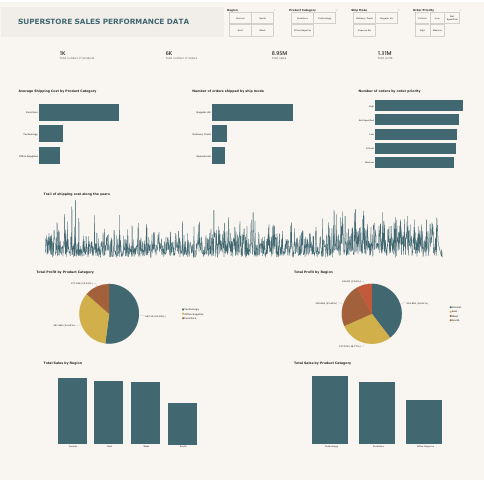

The page's visual inventory and layout, read from the dashboard file:
{"tool":"powerbi","page":{"name":"Page 1","canvas":[3000,3000],"ordinal":0},"visuals":[{"type":"barChart","title":"Number of orders shipped by ship mode","fields":{"Category":["Orders.Ship Mode"],"Y":["CountNonNull(Orders.Ship Date)"]},"box":[1128.6,507.1,665,502.8],"z":0,"group":"g3"},{"type":"barChart","title":"Average Shipping Cost by Product Category","fields":{"Y":["Avg(Orders.Shipping Cost)"],"Category":["Orders.Product Category"]},"box":[110.7,507.1,665,502.8],"z":1000,"group":"g3"},{"type":"columnChart","title":"Total Sales by Region","fields":{"Category":["Orders.Region"],"Y":["Sum(Orders.Sales)"]},"box":[257.1,2100,1000,517.9],"z":2000,"group":"g5"},{"type":"columnChart","title":"Total Sales by Product Category","fields":{"Category":["Orders.Product Category"],"Y":["Sum(Orders.Sales)"]},"box":[1725,2100,1000,517.9],"z":3000,"group":"g5"},{"type":"pieChart","title":"Total Profit by Product Category","fields":{"Y":["Sum(Orders.Profit)"],"Category":["Orders.Product Category"]},"box":[214.3,1567.9,1000,489.3],"z":4000,"group":"g4"},{"type":"pieChart","title":"Total Profit by Region","fields":{"Y":["Sum(Orders.Profit)"],"Category":["Orders.Region"]},"box":[1725,1567.9,1000,489.3],"z":5000,"group":"g4"},{"type":"cardVisual","fields":{"Data":["Orders.Total sales"]},"box":[1571.2,203.6,421.8,200],"z":6000,"group":"g1"},{"type":"cardVisual","fields":{"Data":["Orders.Total number of ordes"]},"box":[949.9,203.6,421.8,200],"z":7000,"group":"g1"},{"type":"shape","box":[17.9,28.6,1307.1,175],"z":8000},{"type":"textbox","box":[28.6,78.6,1185.7,100],"z":9000},{"type":"cardVisual","fields":{"Data":["Orders.Total profit"]},"box":[2192.5,203.6,421.8,200],"z":9001,"group":"g1"},{"type":"slicer","fields":{"Values":["Orders.Region"]},"box":[1325,28.6,309.3,175],"z":9002,"group":"g2"},{"type":"slicer","fields":{"Values":["Orders.Product Category"]},"box":[1688.6,28.6,309.3,175],"z":9003,"group":"g2"},{"type":"slicer","fields":{"Values":["Orders.Order Priority"]},"box":[2415.7,28.6,309.3,175],"z":9004,"group":"g2"},{"type":"barChart","title":"Number of orders by order priority","fields":{"Category":["Orders.Order Priority"],"Y":["Sum(Orders.Quantity ordered new)"]},"box":[2103.6,507.1,665,502.8],"z":9005,"group":"g3"},{"type":"slicer","fields":{"Values":["Orders.Ship Mode"]},"box":[2052.2,28.6,309.3,175],"z":9006,"group":"g2"},{"type":"lineChart","title":"Trail of shipping cost along the years","fields":{"Y":["Sum(Orders.Shipping Cost)"],"Category":["Orders.Ship Date"]},"box":[257.1,1107.1,2357.1,392.9],"z":9007},{"type":"cardVisual","fields":{"Data":["Orders.Total number of products"]},"box":[328.6,203.6,421.8,200],"z":9008,"group":"g1"},{"type":"group","id":"g1","title":"Group 2","box":[328.6,203.6,2285.7,200],"z":9010},{"type":"group","id":"g2","title":"Group 1","box":[1325,28.6,1400,175],"z":9011},{"type":"group","id":"g3","title":"Group 3","box":[110.7,507.1,2657.1,503.6],"z":9012},{"type":"group","id":"g4","title":"Group 4","box":[214.3,1567.9,2510.7,489.3],"z":9013},{"type":"group","id":"g5","title":"Group 5","box":[257.1,2100,2467.9,517.9],"z":9014}]}

Visuals, with their boxes in screenshot pixels (x1, y1, x2, y2), scaled from the page's 3000x3000 canvas onto the 484x480 screenshot:
"Number of orders shipped by ship mode" barChart: {"left": 182, "top": 81, "right": 289, "bottom": 162}
"Average Shipping Cost by Product Category" barChart: {"left": 18, "top": 81, "right": 125, "bottom": 162}
"Total Sales by Region" columnChart: {"left": 41, "top": 336, "right": 203, "bottom": 419}
"Total Sales by Product Category" columnChart: {"left": 278, "top": 336, "right": 440, "bottom": 419}
"Total Profit by Product Category" pieChart: {"left": 35, "top": 251, "right": 196, "bottom": 329}
"Total Profit by Region" pieChart: {"left": 278, "top": 251, "right": 440, "bottom": 329}
cardVisual - Orders.Total sales: {"left": 253, "top": 33, "right": 322, "bottom": 65}
cardVisual - Orders.Total number of ordes: {"left": 153, "top": 33, "right": 221, "bottom": 65}
shape: {"left": 3, "top": 5, "right": 214, "bottom": 33}
textbox: {"left": 5, "top": 13, "right": 196, "bottom": 29}
cardVisual - Orders.Total profit: {"left": 354, "top": 33, "right": 422, "bottom": 65}
slicer - Orders.Region: {"left": 214, "top": 5, "right": 264, "bottom": 33}
slicer - Orders.Product Category: {"left": 272, "top": 5, "right": 322, "bottom": 33}
slicer - Orders.Order Priority: {"left": 390, "top": 5, "right": 440, "bottom": 33}
"Number of orders by order priority" barChart: {"left": 339, "top": 81, "right": 447, "bottom": 162}
slicer - Orders.Ship Mode: {"left": 331, "top": 5, "right": 381, "bottom": 33}
"Trail of shipping cost along the years" lineChart: {"left": 41, "top": 177, "right": 422, "bottom": 240}
cardVisual - Orders.Total number of products: {"left": 53, "top": 33, "right": 121, "bottom": 65}
"Group 2" group: {"left": 53, "top": 33, "right": 422, "bottom": 65}
"Group 1" group: {"left": 214, "top": 5, "right": 440, "bottom": 33}
"Group 3" group: {"left": 18, "top": 81, "right": 447, "bottom": 162}
"Group 4" group: {"left": 35, "top": 251, "right": 440, "bottom": 329}
"Group 5" group: {"left": 41, "top": 336, "right": 440, "bottom": 419}
